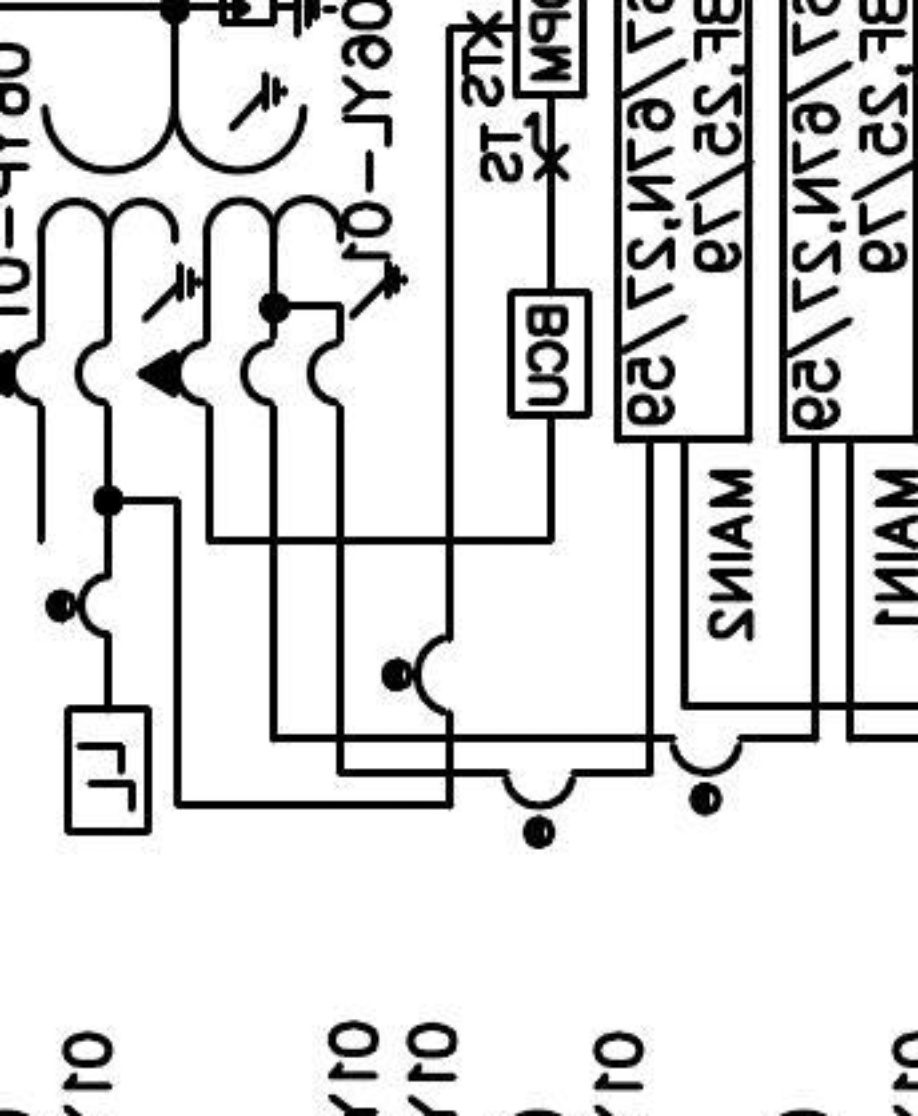BCU: (506, 286, 594, 421)
LL: (63, 704, 153, 837)
